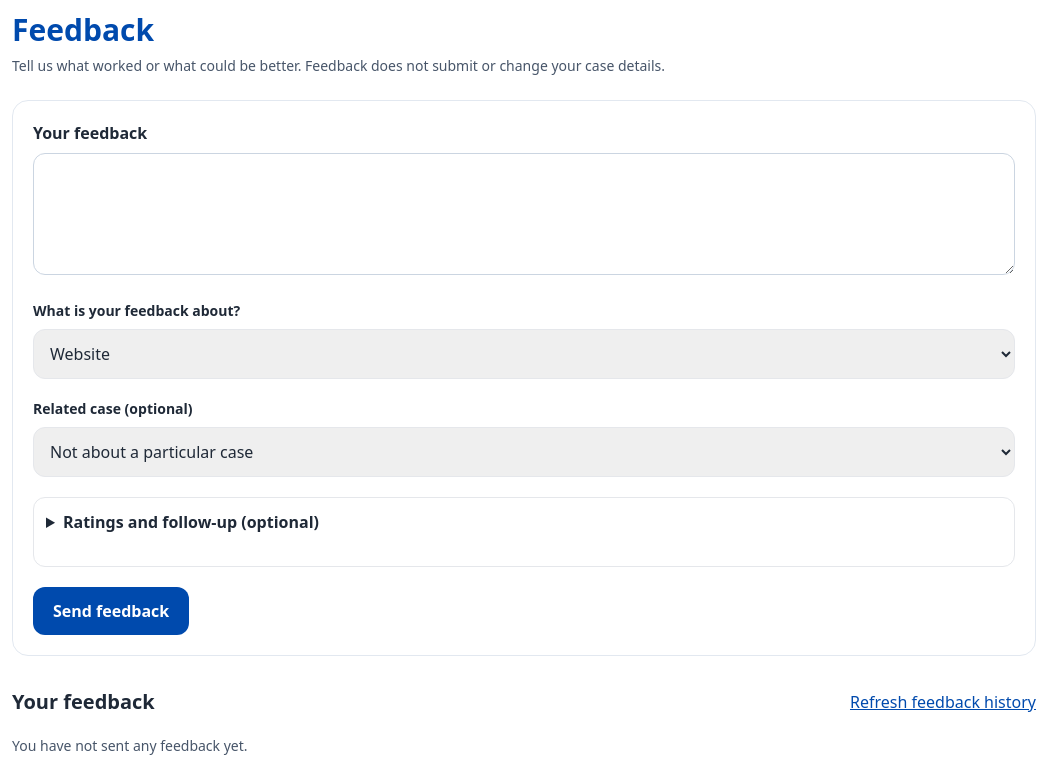
Test: message-only feedback uses the supported API and preserves successful acknowledgement
Check: the text "You have not sent any feedback yet." is shown, box [12,736,248,755]
In the text box labelled "Your feedback": (524, 214) [33,153,1015,275], type "Fictional service feedback"
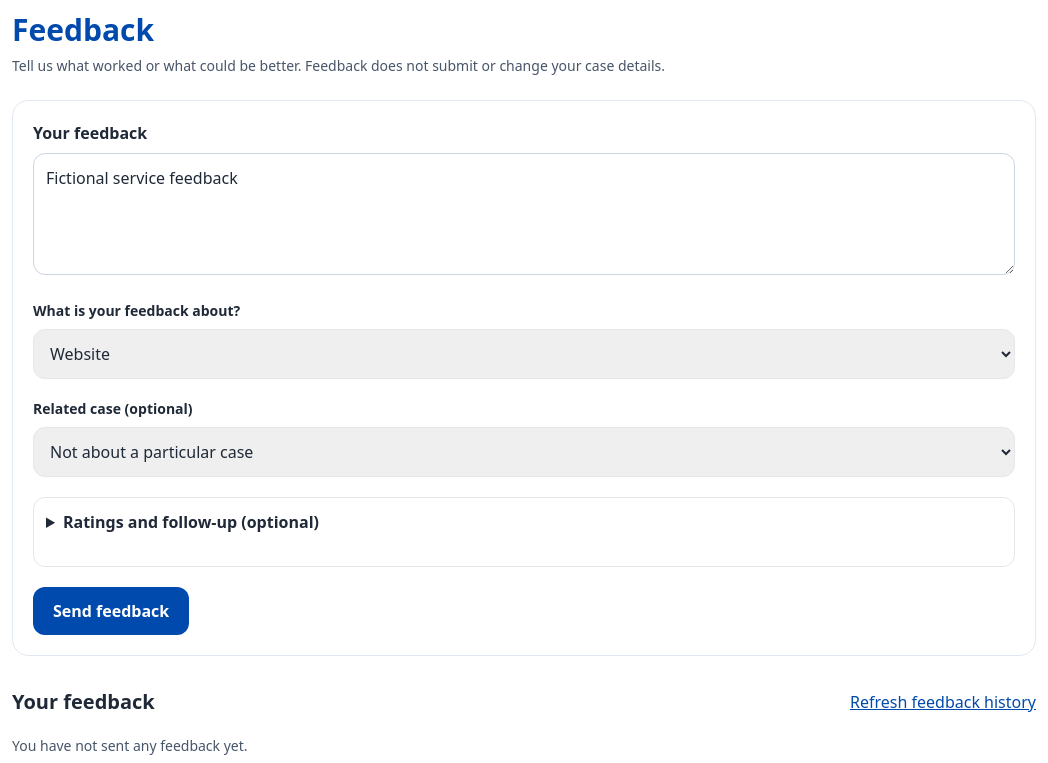
Click the button "Send feedback": (111, 611) [33,587,189,635]
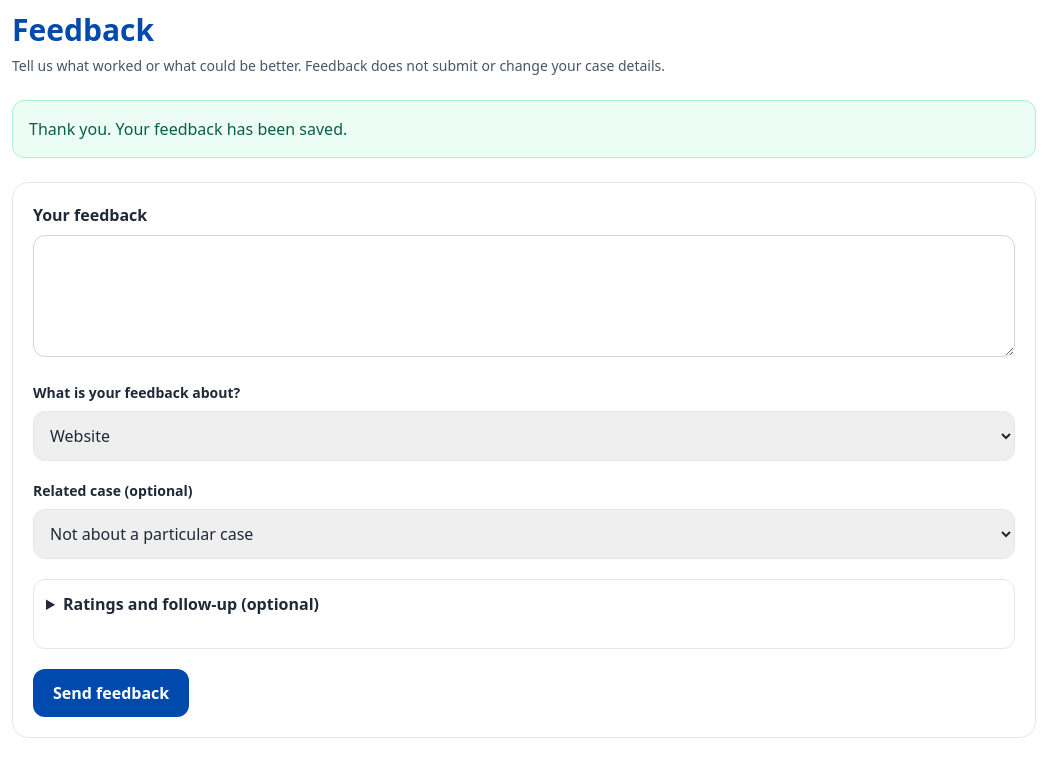
Check: the text "Thank you. Your feedback has been saved." is shown, box [12,100,1036,158]
